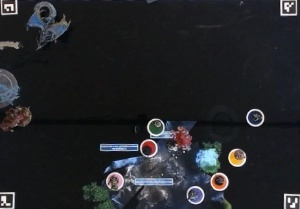blue: (245, 106, 266, 126)
green: (148, 117, 165, 137)
orange: (211, 170, 229, 190)
pink: (104, 170, 124, 191)
red: (138, 137, 159, 156)
violet: (186, 184, 206, 203)
yellow: (228, 146, 250, 168)
